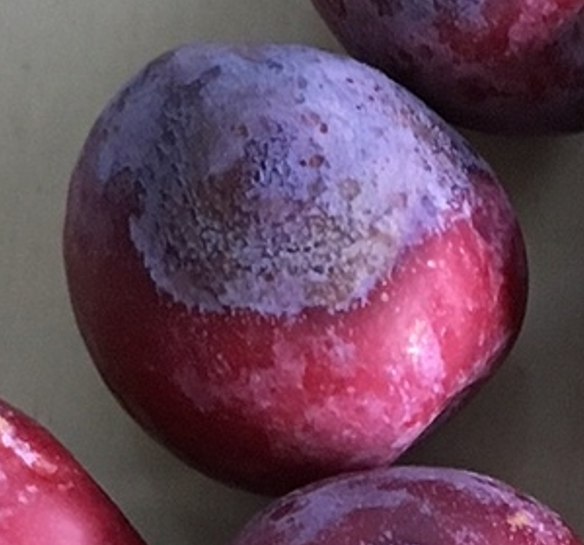plum_B: (61, 41, 529, 499)
